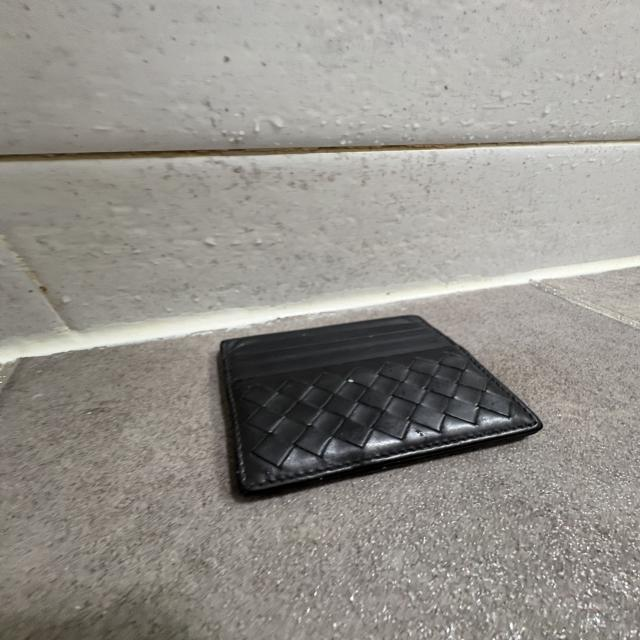wallet: (218, 314, 545, 505)
